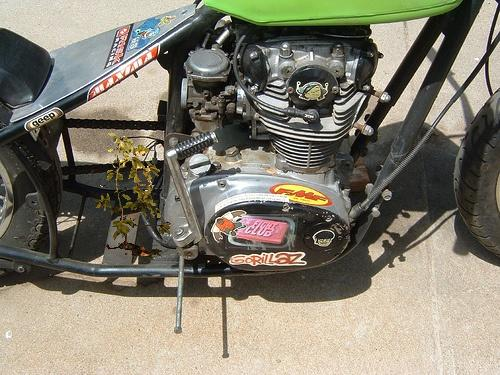tampered: (96, 134, 170, 260)
